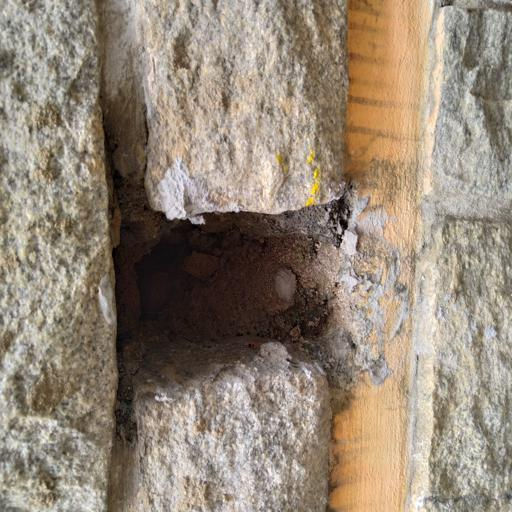spalling: (94, 145, 418, 393)
